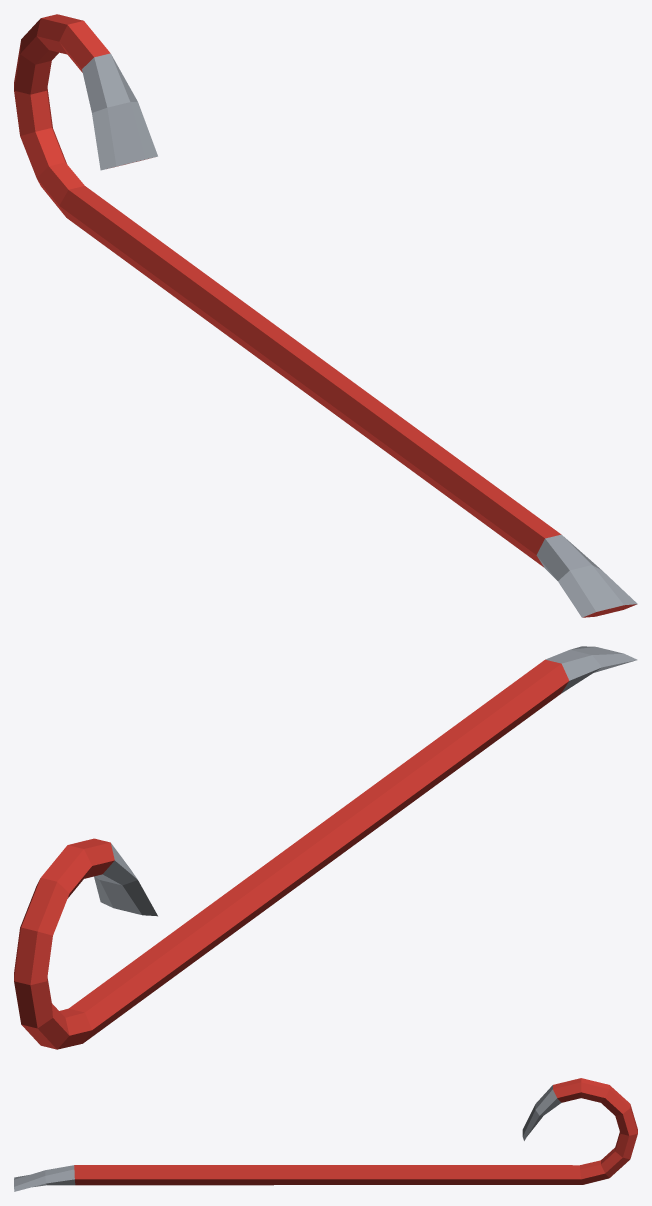
Rendered from crowbar.glb.
3 views of the same model, one above another, from view 1: azimuth 30°, elevation 25°; view 2: azimuth 150°, elevation 25°; view 3: azimuth 270°, elevation 25° (orthographic). The views are drawn at different scales.
Visible parts, largest first — view 1: crowbar__body; view 2: crowbar__body; view 3: crowbar__body.
Boxes of the visible parts, x1,y1,x2,y2 form: crowbar__body: (14, 14, 637, 617); crowbar__body: (14, 646, 637, 1049); crowbar__body: (14, 1078, 637, 1191).
Bounding box in the file's own units: 0.0367 × 0.1217 × 0.6495.
Materials: 1 (1 with a texture image).
